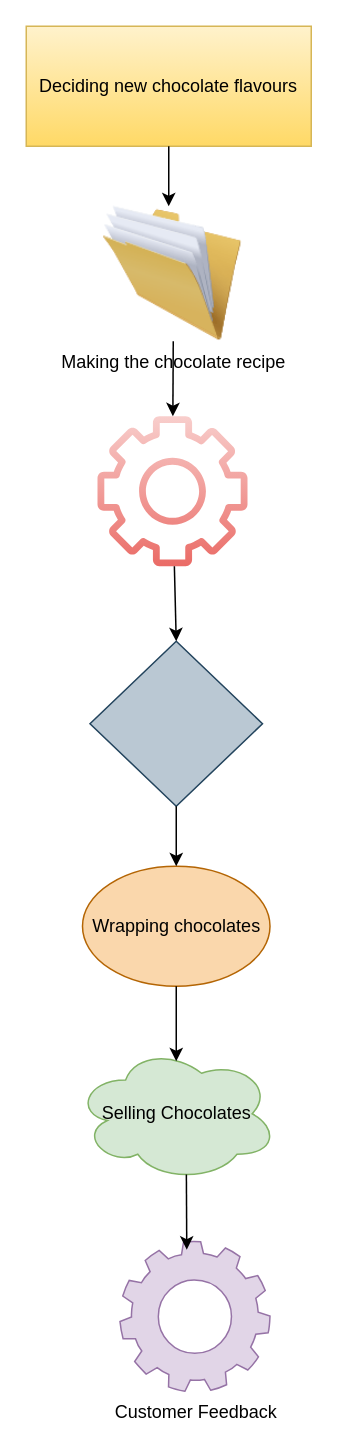
Image size: 338x1449. Some labels were removed from this diagram. The centre of each missing label's shape, as x and y in pixels:
"Mixing the Ingredients" goes at point (172, 490).
"Taste Testing" goes at point (175, 723).
